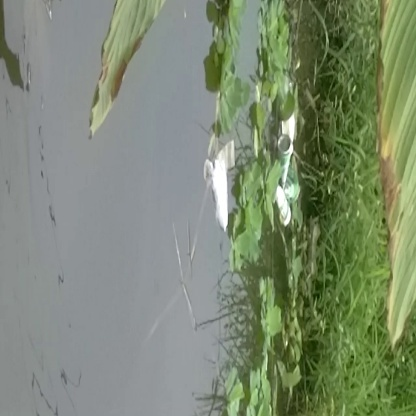plastic-bag: (198, 137, 242, 231)
